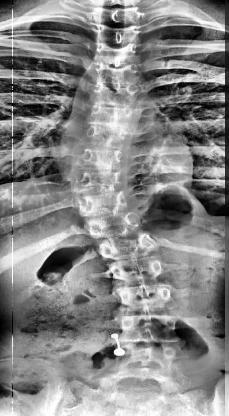Vertebrae: (94, 227, 160, 263), (115, 313, 183, 345), (82, 206, 144, 240), (113, 344, 178, 376), (116, 280, 177, 312), (106, 254, 166, 284), (79, 124, 137, 154), (75, 188, 131, 219), (90, 79, 146, 109), (70, 166, 128, 194), (92, 1, 152, 27), (92, 60, 144, 89), (72, 142, 134, 166), (86, 101, 142, 127), (94, 42, 146, 68), (95, 23, 145, 49)
